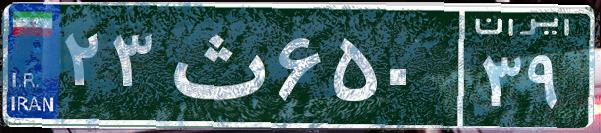0: (385, 28, 445, 110)
2: (57, 26, 110, 107)
3: (475, 38, 525, 113), (110, 28, 158, 105)
5: (330, 28, 385, 110)
6: (273, 28, 330, 110)
9: (525, 38, 570, 115)
ث: (158, 15, 273, 115)
